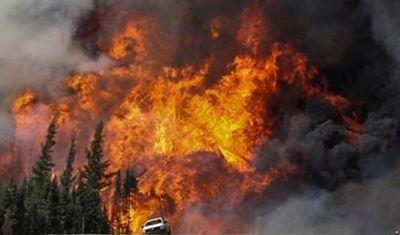fire: (14, 18, 325, 233)
